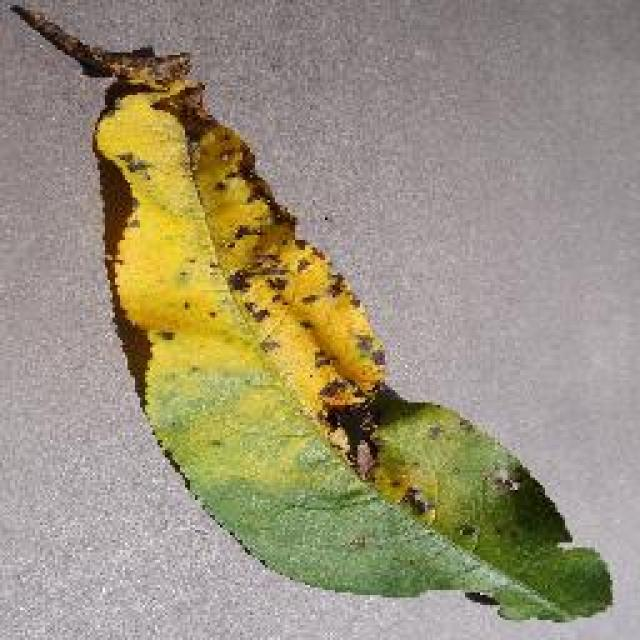Peach_Bacterial_Spot: (125, 87, 513, 548)
